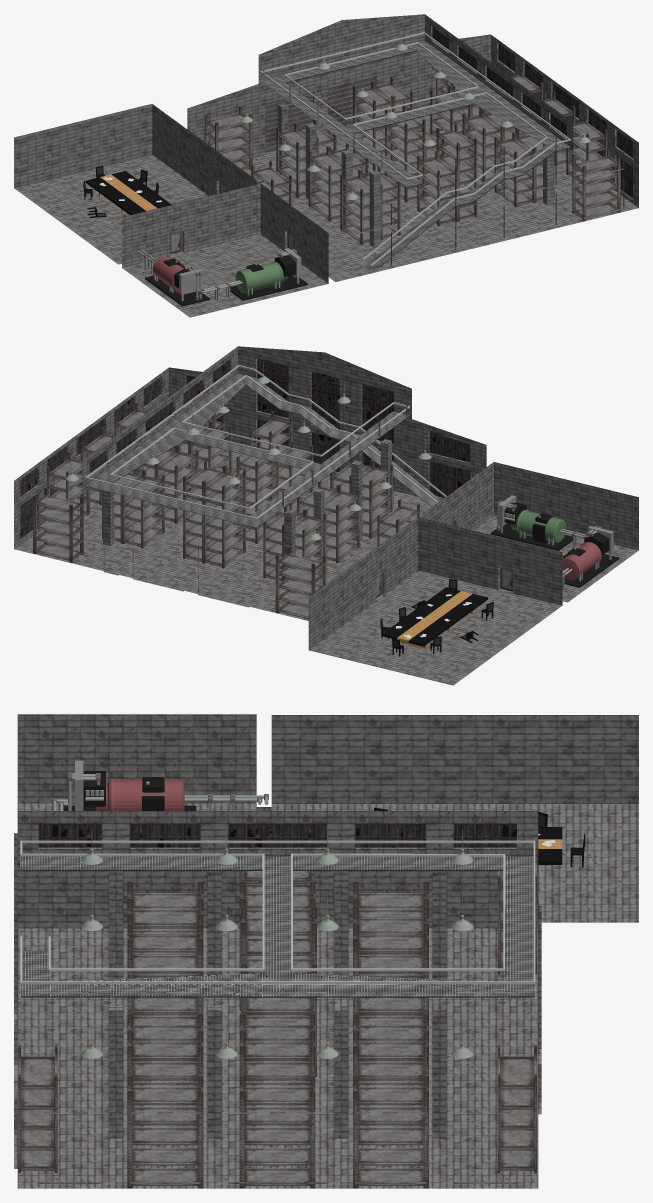
File: TheCall eddds.glb
3 renders of one model, top to bottom at view 1: azimuth 30°, elevation 25°; view 2: azimuth 150°, elevation 25°; view 3: azimuth 270°, elevation 25°, orthographic. The views are drawn at different scales.
Parts seen in each view (by area): view 1: Warehouse-col.001, Grate Staircase-col.001, Table-col.001, Ballistraide-col.002, Ballistraide-col.003, Generator-col.038, Ballistraide-col.001, Warehouse-col.009, Generator-col.045, Warehouse-col.008, Generator-col.115, Generator-col.108 (+8 smaller); view 2: Warehouse-col.001, Grate Staircase-col.001, Table-col.001, Ballistraide-col.002, Ballistraide-col.003, Ballistraide-col.001, Generator-col.038, Generator-col.108, Generator-col.045, Warehouse-col.003, Warehouse-col.006, Warehouse-col.007 (+4 smaller); view 3: Warehouse-col.001, Grate Staircase-col.001, Ballistraide-col.002, Ballistraide-col.003, Ballistraide-col.001, Warehouse-col.003, Warehouse-col.004, Warehouse-col.002, Generator-col.108, Warehouse-col.005, Warehouse-col.007, Warehouse-col.008 (+54 smaller).
Part boxes in pixels (x1,y1,x2,y2): Warehouse-col.001: [14, 14, 638, 317]; Grate Staircase-col.001: [261, 40, 570, 273]; Table-col.001: [85, 171, 171, 214]; Ballistraide-col.002: [260, 32, 570, 265]; Ballistraide-col.003: [352, 92, 547, 259]; Generator-col.038: [235, 261, 288, 292]; Ballistraide-col.001: [284, 42, 478, 119]; Warehouse-col.009: [369, 170, 380, 247]; Generator-col.045: [230, 275, 307, 300]; Warehouse-col.008: [305, 123, 316, 199]; Generator-col.115: [145, 275, 209, 306]; Generator-col.108: [152, 256, 183, 292]; Warehouse-col.001: [14, 346, 638, 685]; Grate Staircase-col.001: [85, 373, 441, 527]; Table-col.001: [382, 587, 487, 646]; Ballistraide-col.002: [85, 365, 446, 519]; Ballistraide-col.003: [181, 375, 438, 503]; Ballistraide-col.001: [110, 428, 313, 509]; Generator-col.038: [511, 510, 566, 542]; Generator-col.108: [562, 542, 602, 580]; Generator-col.045: [490, 523, 572, 550]; Warehouse-col.003: [103, 482, 114, 545]; Warehouse-col.006: [351, 460, 362, 540]; Warehouse-col.007: [284, 509, 295, 579]; Warehouse-col.001: [14, 714, 638, 1188]; Grate Staircase-col.001: [20, 855, 535, 997]; Ballistraide-col.002: [20, 840, 535, 984]; Ballistraide-col.003: [20, 853, 264, 971]; Ballistraide-col.001: [291, 853, 505, 971]; Warehouse-col.003: [432, 1004, 446, 1138]; Warehouse-col.004: [334, 1004, 348, 1138]; Warehouse-col.002: [207, 1004, 221, 1138]; Generator-col.108: [96, 778, 184, 810]; Warehouse-col.005: [109, 1004, 122, 1138]; Warehouse-col.007: [432, 871, 446, 979]; Warehouse-col.008: [334, 871, 348, 975].
Bounding box in the file's own units: 81.56 × 20.36 × 55.69.
22 materials, 12 textured.
